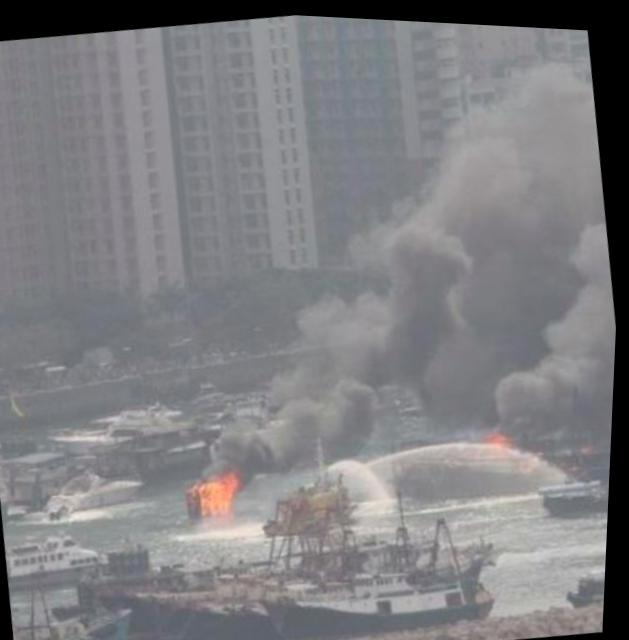fire: (199, 472, 240, 516)
